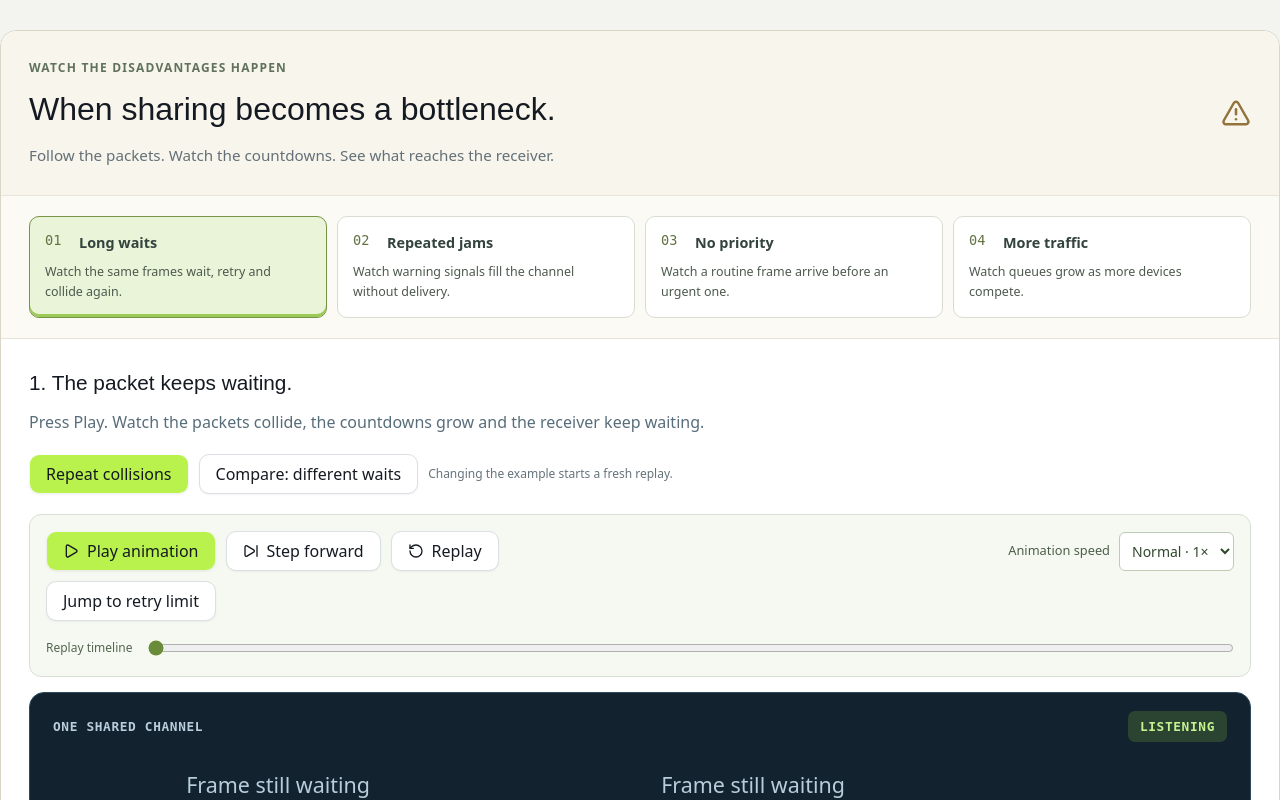
Test: animated CSMA/CD disadvantages › moves packets when playing and freezes both time and the SVG when paused
Step 1. Click the button "Play animation" → (131, 551), box 46,531 -> 216,571
Wait 1500 ms
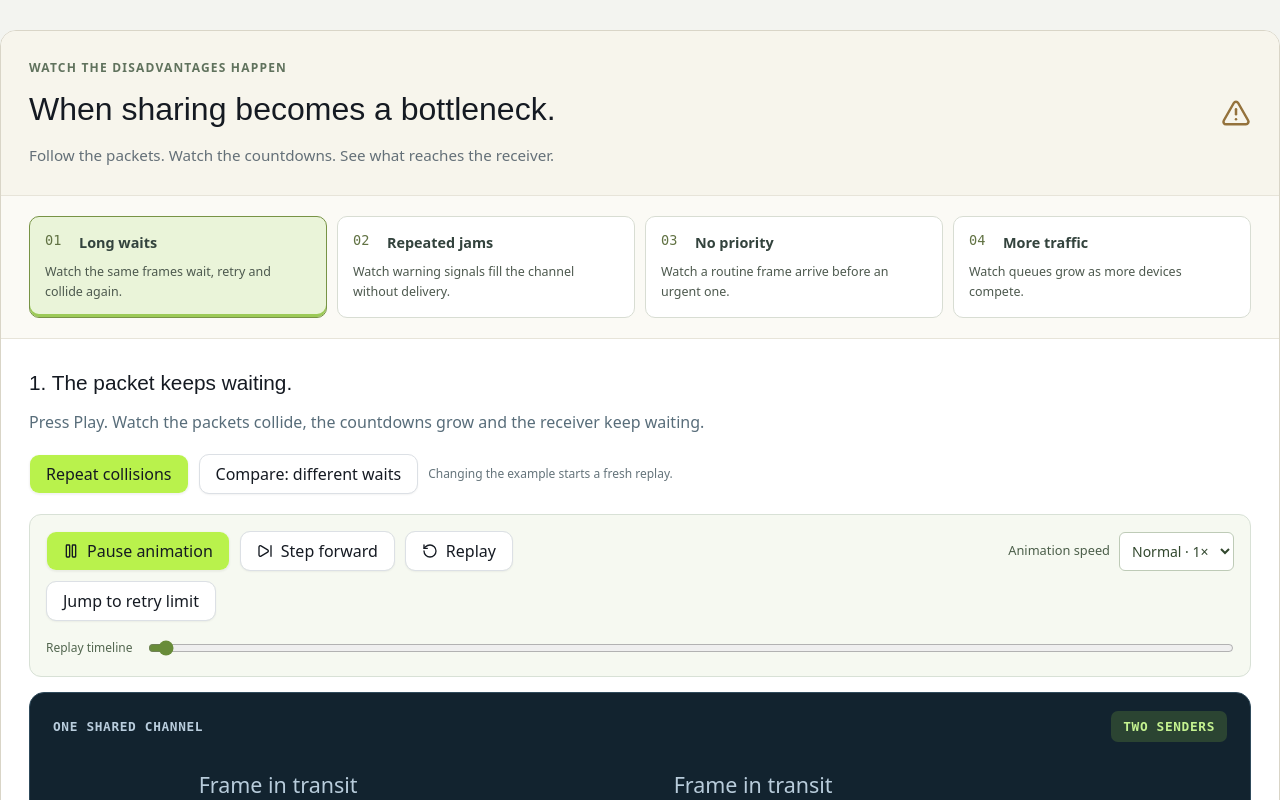
Step 2. Click the button "Pause animation" → (138, 551), box 46,531 -> 230,571
Wait 10000 ms
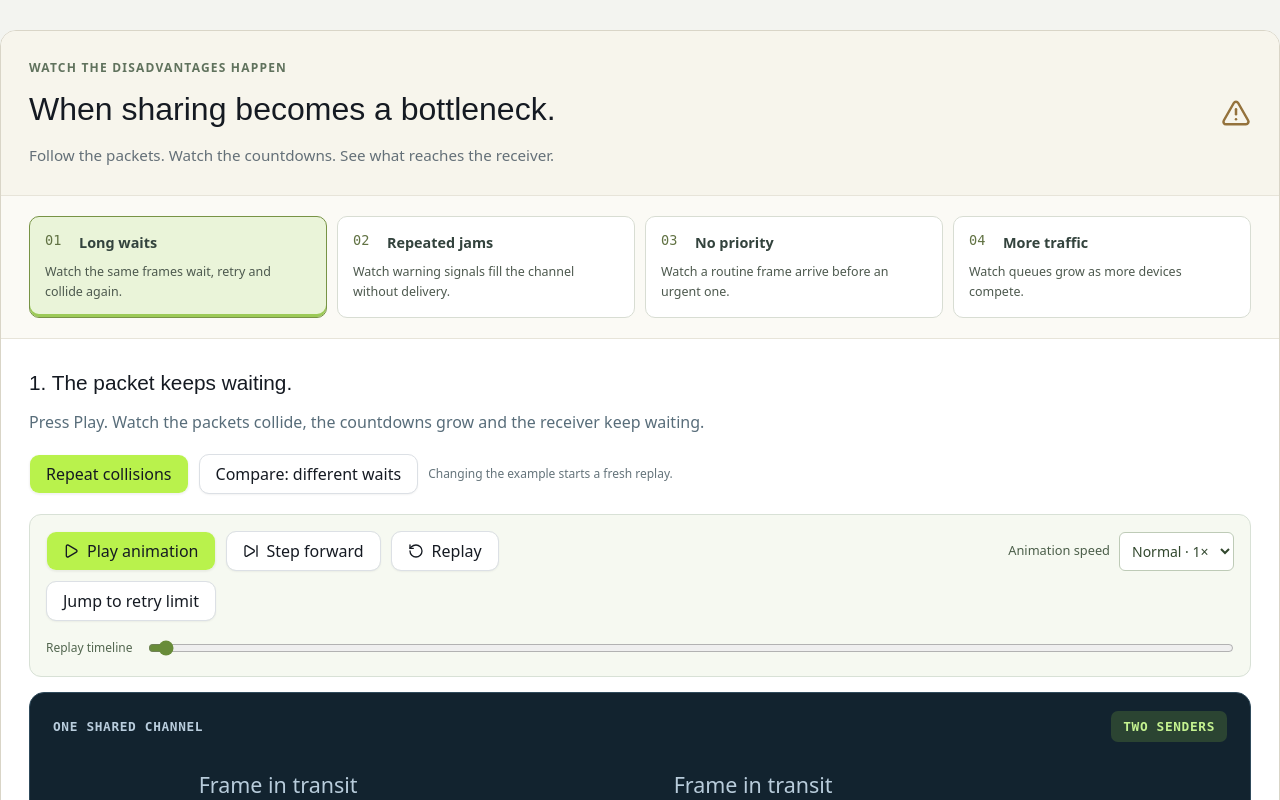
Step 3. Click the button "Step forward" → (303, 551), box 226,531 -> 381,571
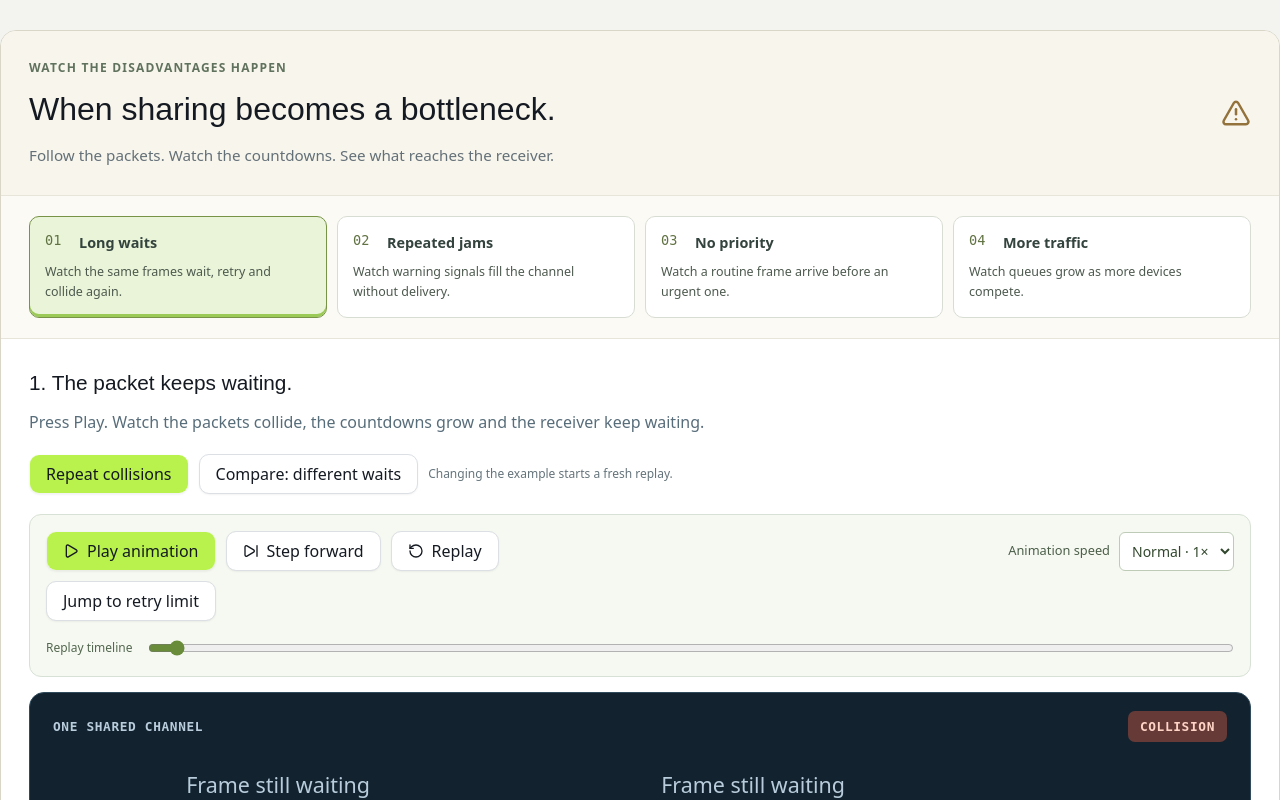
Step 4. Click the button "Jump to retry limit" → (131, 601), box 46,581 -> 216,621
(page scrolled)
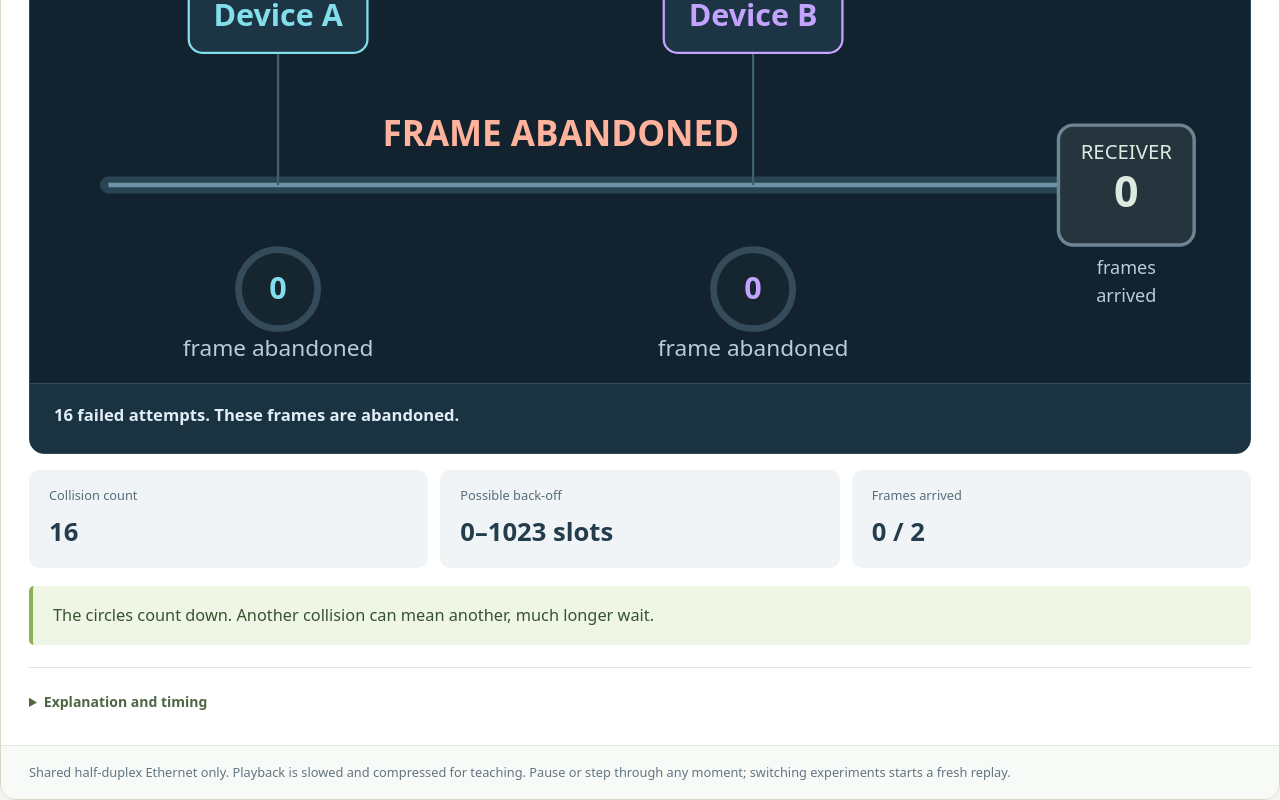
Check: the text "FRAME ABANDONED" is shown, box 382,108 -> 739,156
Check: the text "16 failed attempts. These frames are abandoned." is shown, box 30,383 -> 1250,453
